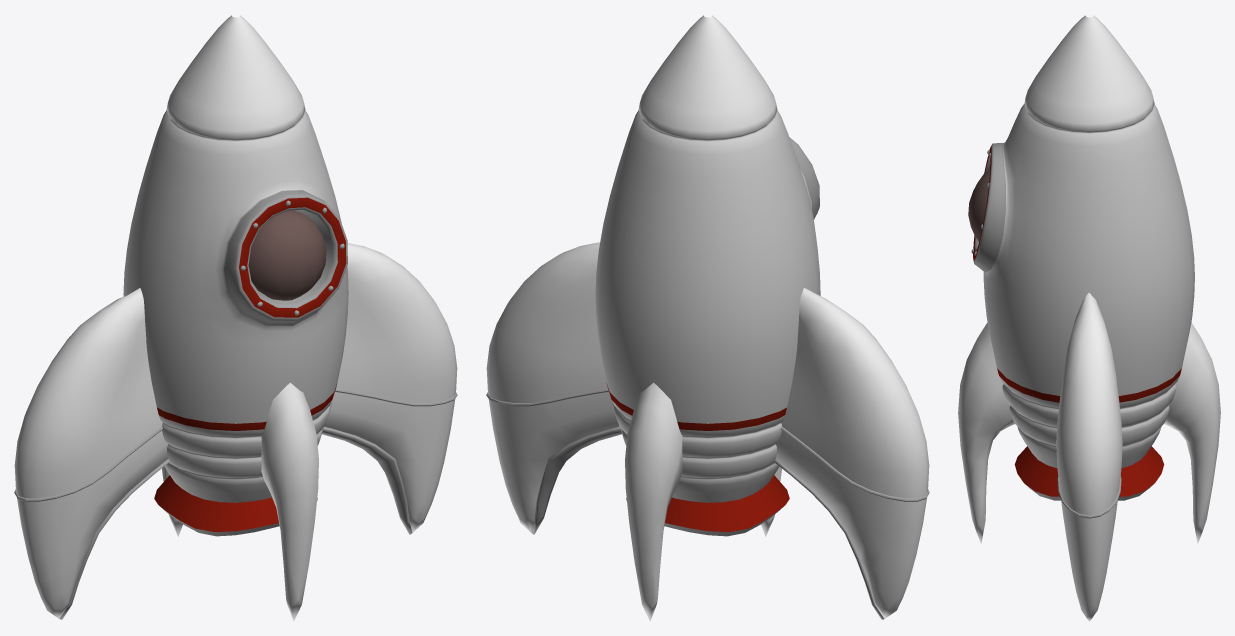
The model's file is Rocket.glb.
The picture shows the model from 3 angles, left to right: view 1: azimuth 30°, elevation 25°; view 2: azimuth 150°, elevation 25°; view 3: azimuth 270°, elevation 25°; orthographic projection. The views are drawn at different scales.
Visible parts, largest first — view 1: body, wing_1, wing_3, glass, wing_down, line; view 2: body, wing_1, wing_3, wing_down, line; view 3: body, wing_1, wing_3, glass.
Part boxes in pixels (left/top/right/bottom): body: left=123, top=15, right=348, bottom=536; wing_1: left=14, top=243, right=457, bottom=618; wing_3: left=162, top=382, right=318, bottom=621; glass: left=248, top=210, right=326, bottom=300; wing_down: left=60, top=426, right=412, bottom=619; line: left=14, top=388, right=457, bottom=501; body: left=595, top=15, right=820, bottom=536; wing_1: left=486, top=242, right=929, bottom=618; wing_3: left=625, top=382, right=781, bottom=621; wing_down: left=531, top=426, right=883, bottom=619; line: left=486, top=388, right=929, bottom=501; body: left=973, top=15, right=1194, bottom=500; wing_1: left=1056, top=293, right=1122, bottom=621; wing_3: left=958, top=322, right=1220, bottom=543; glass: left=968, top=170, right=989, bottom=241.
Bounding box in the file's own units: 291 × 358 × 161.
